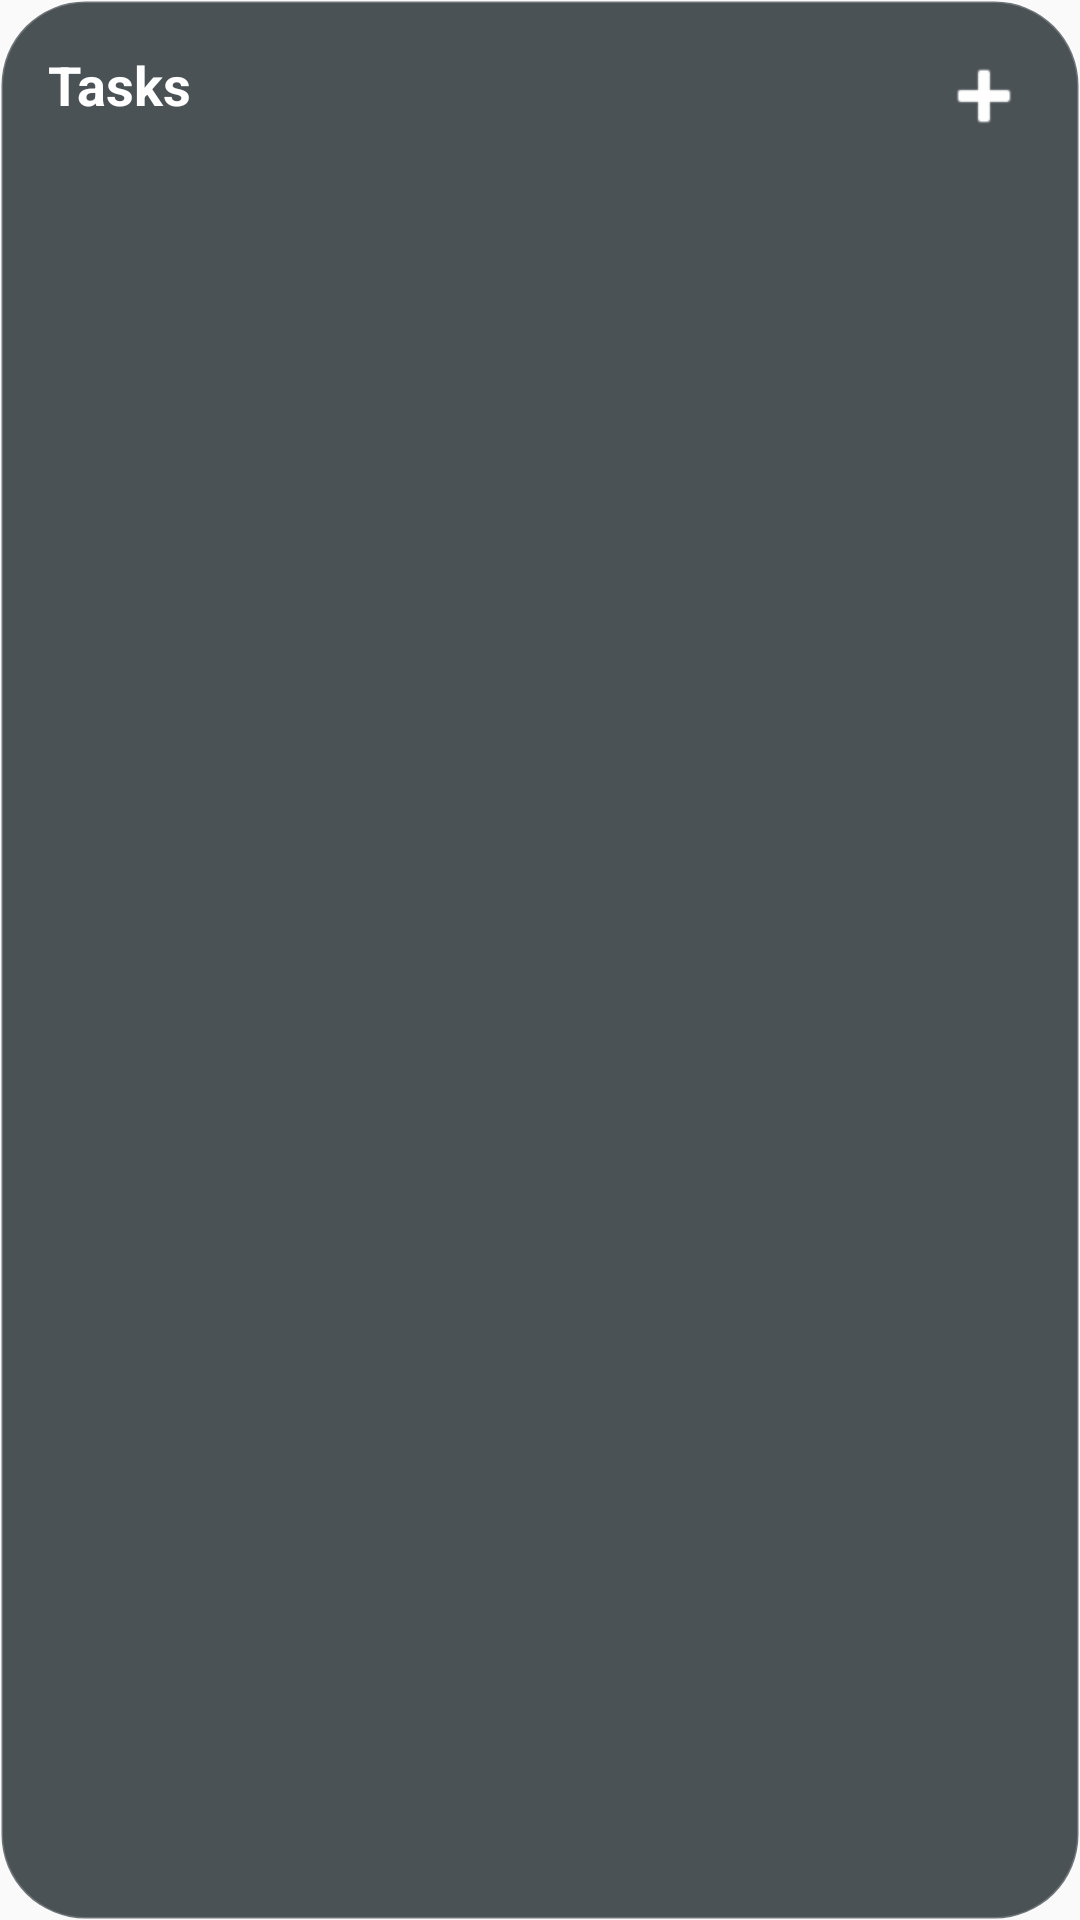

Point at icon controls on the screen. Image size 1080×1920, points as (x=x, y=y).
add: (x=984, y=96)
